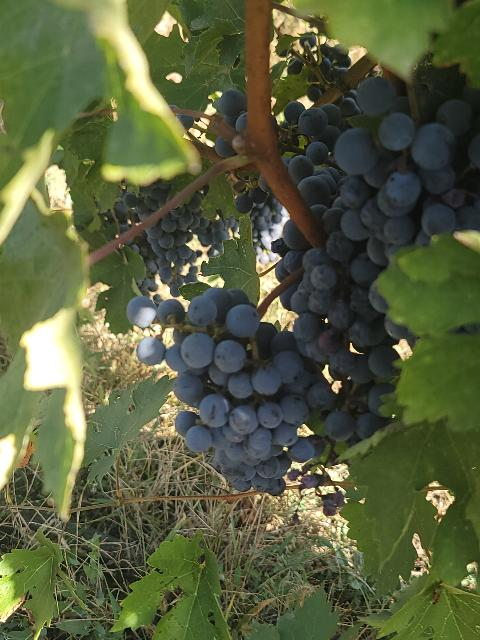grapes: (128, 288, 331, 495), (285, 105, 399, 441), (331, 62, 480, 272)
